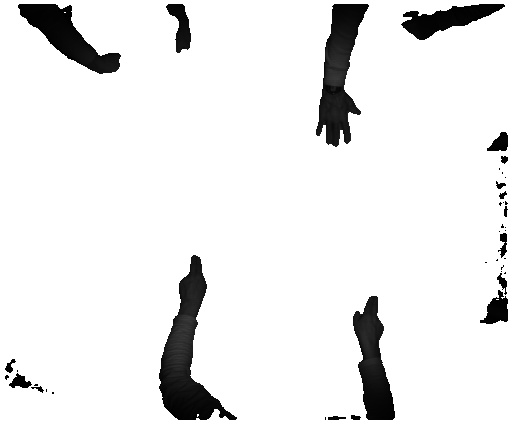fist: (97, 50, 127, 79), (172, 29, 191, 55)
hand: (316, 92, 367, 151), (176, 248, 207, 309), (352, 296, 383, 351), (400, 11, 434, 39)
